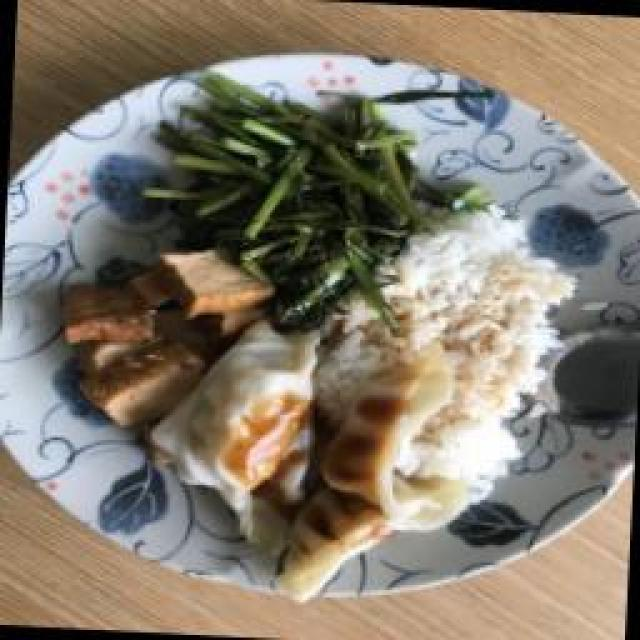fried_dumplings: (175, 347, 435, 555)
rice: (365, 235, 545, 368)
water_spinach: (215, 118, 400, 261)
